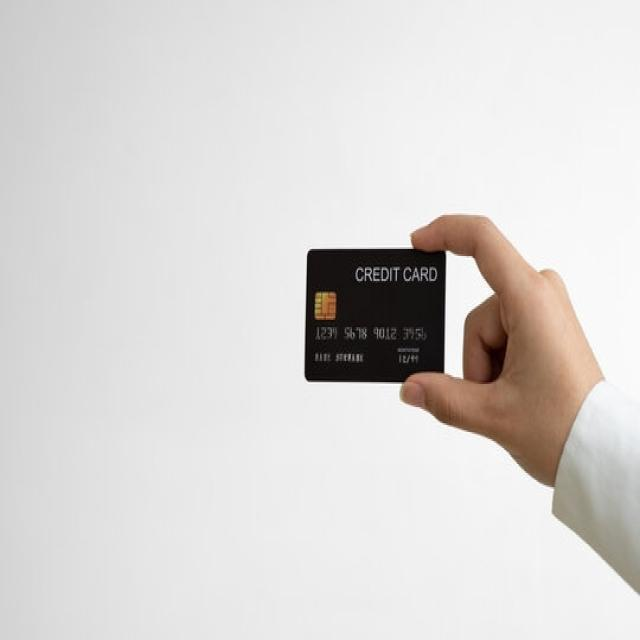payment_card: (303, 247, 446, 383)
